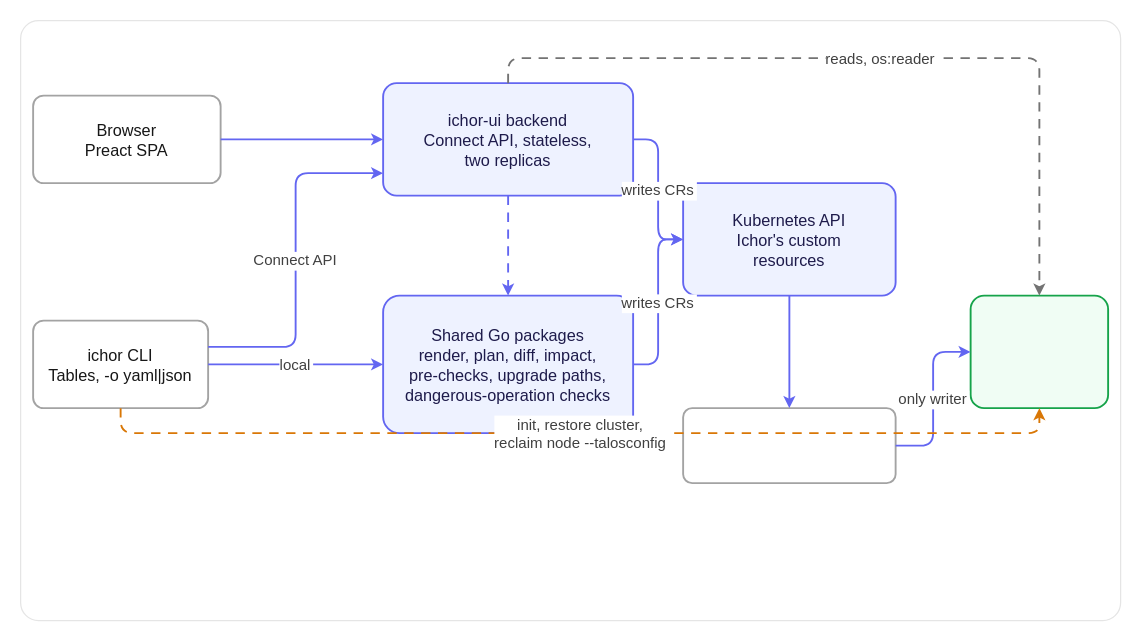
The diagram is 1141 pixels wide and 641 high, and some of its shapes have lost their labels. The centre of each missing label's shape, as x and y in pixels:
ichor-controller: point 789,445
Talos nodes: point 1038,351
